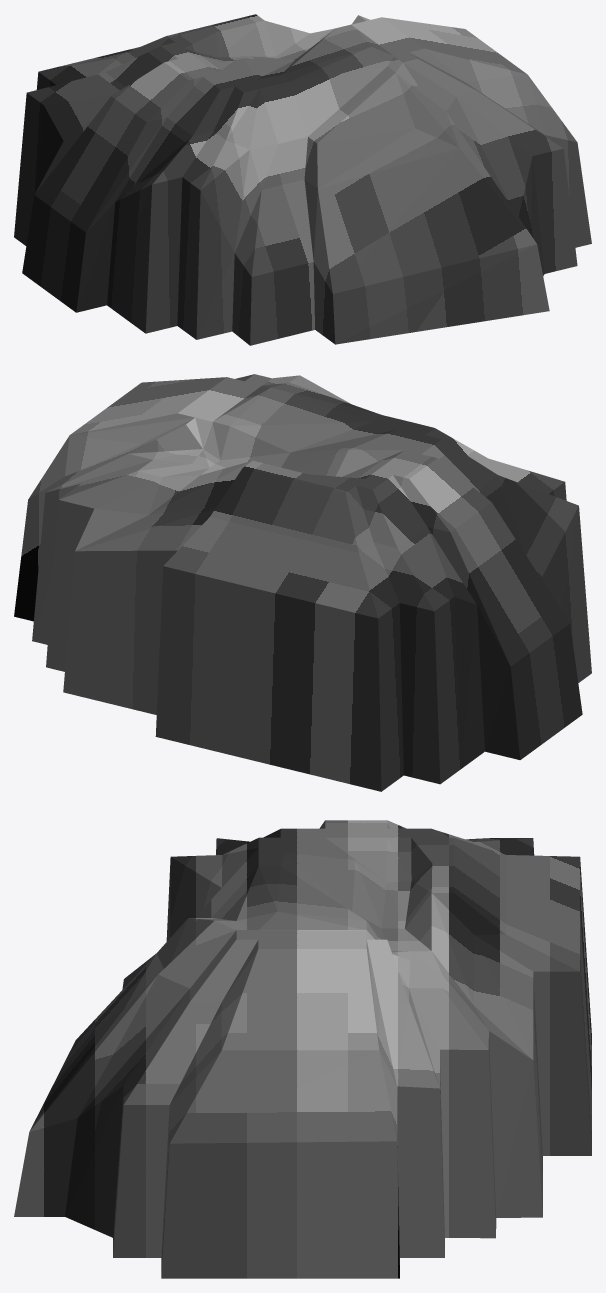
The model's file is Rock_331x08.gltf.
3 views of the same model, one above another, from view 1: azimuth 30°, elevation 25°; view 2: azimuth 150°, elevation 25°; view 3: azimuth 270°, elevation 25° (orthographic). The views are drawn at different scales.
Parts seen in each view (by area): view 1: Rock_331x08; view 2: Rock_331x08; view 3: Rock_331x08.
Boxes of the visible parts, x1,y1,x2,y2 form: Rock_331x08: (14,14,591,345); Rock_331x08: (14,374,591,791); Rock_331x08: (14,820,591,1278).
Size of the model in its own units: 0.8551 by 0.3678 by 0.7414.
1 material, 1 textured.
